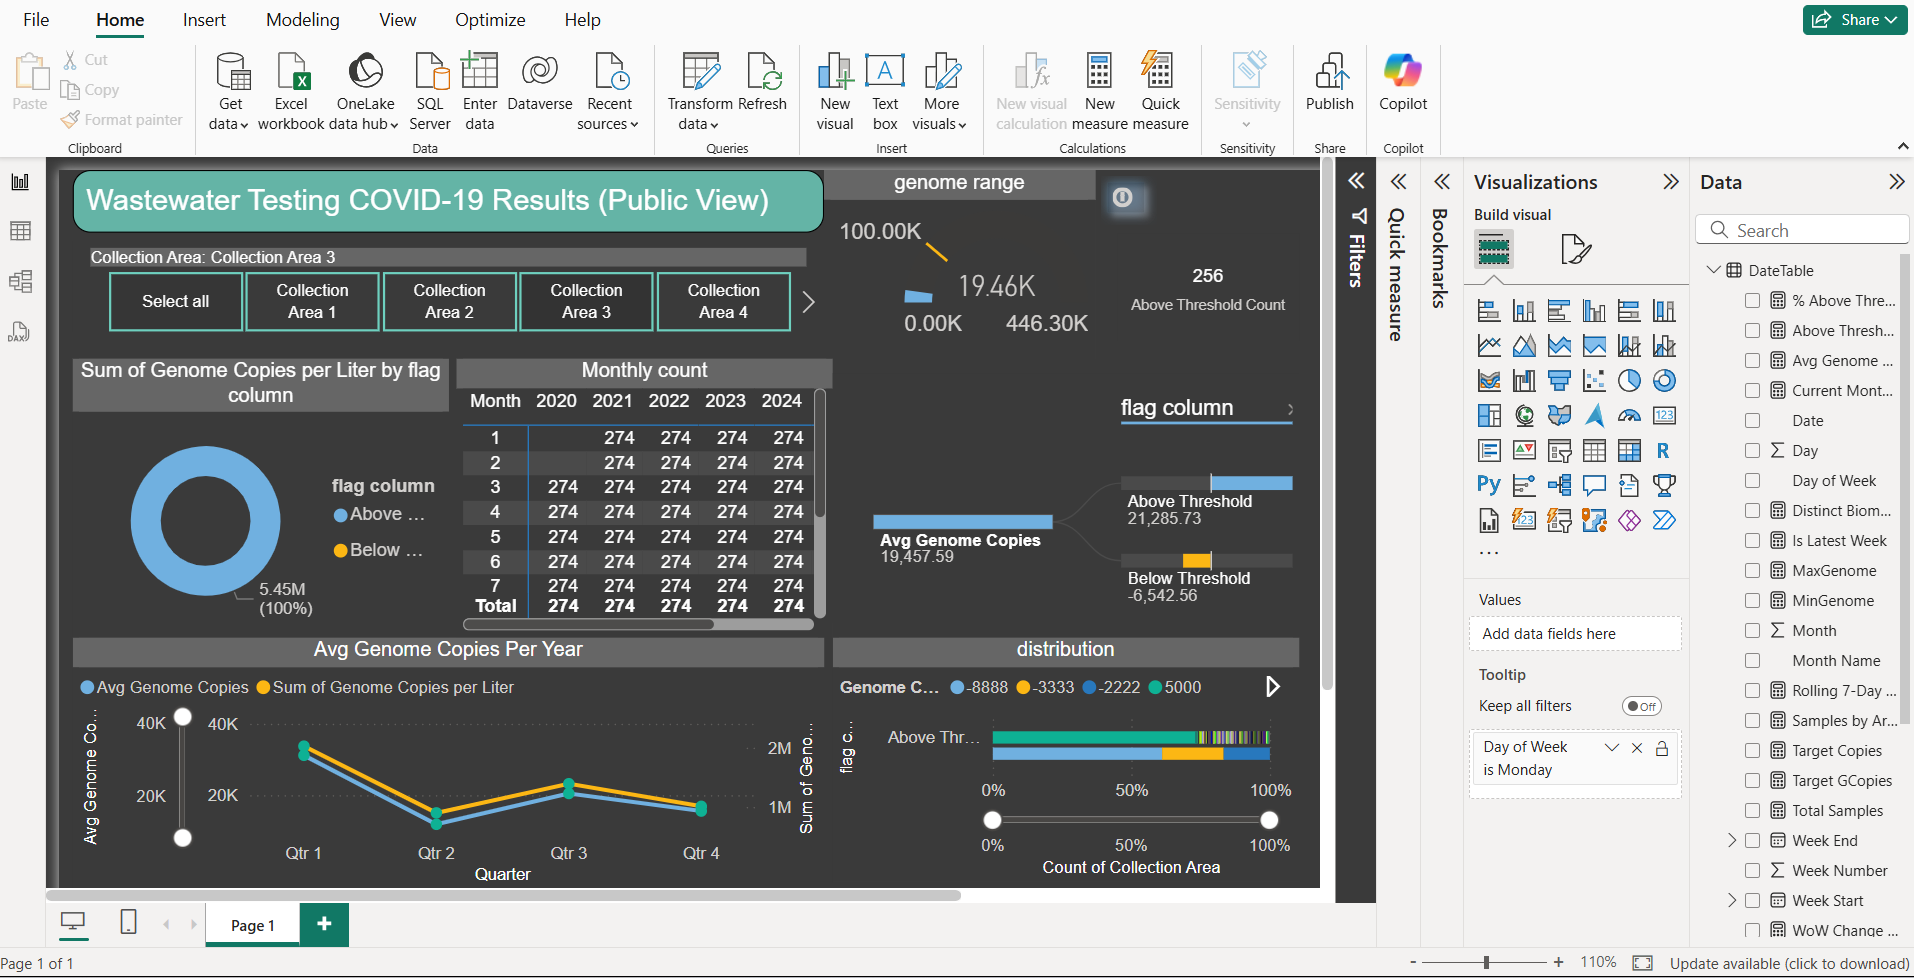

The dashboard page shown, as its layout file describes it:
{"tool":"powerbi","page":{"name":"Page 1","canvas":[1280,720],"ordinal":0},"visuals":[{"type":"textbox","box":[10,0,546.4,45.5],"z":0},{"type":"slicer","fields":{"Values":["survey_0.Collection Area"]},"box":[10,51.8,546.4,65.5],"z":1000},{"type":"lineChart","title":"Avg Genome Copies Per Year ","fields":{"Category":["survey_0.Week Start Date.Variation.Date Hierarchy.Year","survey_0.Week Start Date.Variation.Date Hierarchy.Quarter","survey_0.Week Start Date.Variation.Date Hierarchy.Month","survey_0.Week Start Date.Variation.Date Hierarchy.Day"],"Y":["DateTable.Avg Genome Copies"],"Y2":["Sum(survey_0.Genome Copies per Liter)"]},"box":[10,340,546.4,183.6],"z":2000},{"type":"gauge","title":"genome range","fields":{"Y":["DateTable.Avg Genome Copies"],"MaxValue":["DateTable.MaxGenome"],"TargetValue":["DateTable.Target GCopies"]},"box":[556.4,0,197.3,137.3],"z":3000},{"type":"donutChart","fields":{"Category":["survey_0.flag column"],"Y":["Sum(survey_0.Genome Copies per Liter)"]},"box":[10,137.3,273.6,202.7],"z":4000},{"type":"pivotTable","title":"Monthly count","fields":{"Rows":["DateTable.Month"],"Columns":["DateTable.Year"],"Values":["DateTable.Total Samples"]},"box":[289.1,137.3,273.6,202.7],"z":4001},{"type":"hundredPercentStackedBarChart","title":"distribution","fields":{"Series":["survey_0.Genome Copies per Liter"],"Y":["CountNonNull(survey_0.Collection Area)"],"Category":["survey_0.flag column"]},"box":[562.7,340,339.1,177.3],"z":4002},{"type":"decompositionTreeVisual","fields":{"Analyze":["DateTable.Avg Genome Copies"],"ExplainBy":["survey_0.flag column","survey_0.Biomarker","DateTable.Month","survey_0.Statistic","survey_0.Collection Area"]},"box":[562.7,148.2,339.1,180.9],"z":4003},{"type":"actionButton","title":"more info","box":[753.6,0,44.5,40],"z":4005},{"type":"card","fields":{"Values":["DateTable.Current Month Avg"]},"box":[762.7,40,139.1,97.3],"z":4006}]}

Visuals, with their boxes on the page's 1280x720 design canvas (x1, y1, x2, y2). These are canvas units, not pixel positions in the 1914x978 screenshot, which may show the page scaled, cropped or inside an application window:
textbox: bbox=[10, 0, 556, 46]
slicer - survey_0.Collection Area: bbox=[10, 52, 556, 117]
"Avg Genome Copies Per Year " lineChart: bbox=[10, 340, 556, 524]
"genome range" gauge: bbox=[556, 0, 754, 137]
donutChart - survey_0.flag column x Sum(survey_0.Genome Copies per Liter): bbox=[10, 137, 284, 340]
"Monthly count" pivotTable: bbox=[289, 137, 563, 340]
"distribution" hundredPercentStackedBarChart: bbox=[563, 340, 902, 517]
decompositionTreeVisual - DateTable.Avg Genome Copies x survey_0.flag column: bbox=[563, 148, 902, 329]
"more info" actionButton: bbox=[754, 0, 798, 40]
card - DateTable.Current Month Avg: bbox=[763, 40, 902, 137]
